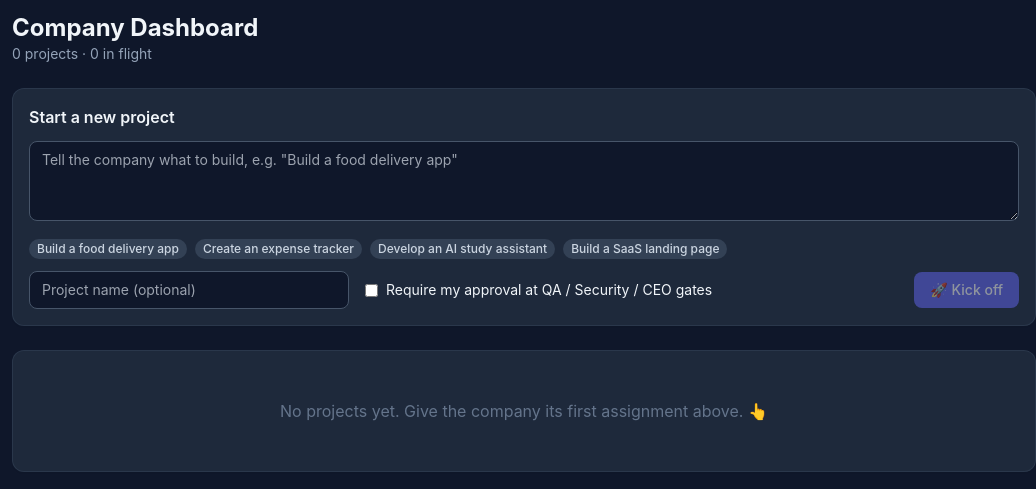
Test: DashboardPage › fills the prompt from an example chip
Click the button "Build a food delivery app".
click(108, 249)  # box 29,239 -> 187,259
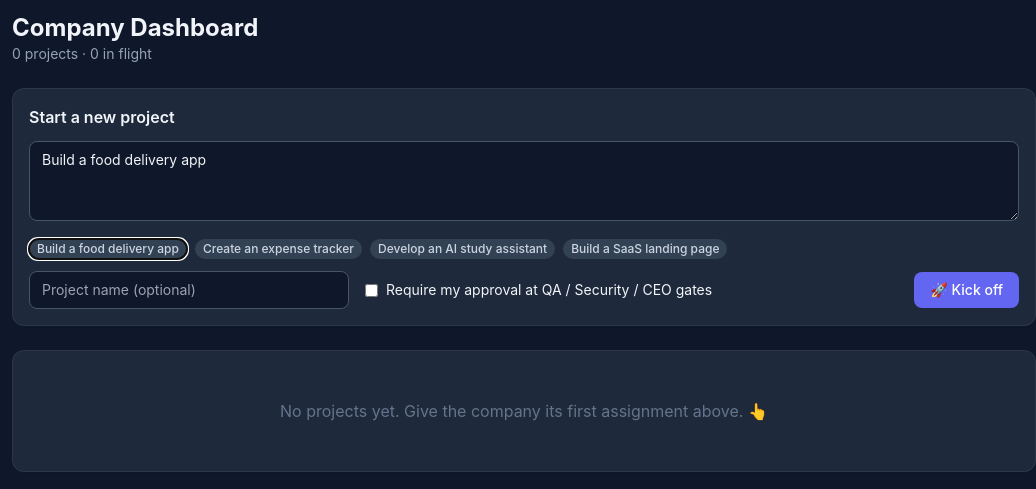
Expected: the text box named "Project prompt" holds "Build a food delivery app", 29,141 -> 1019,221
